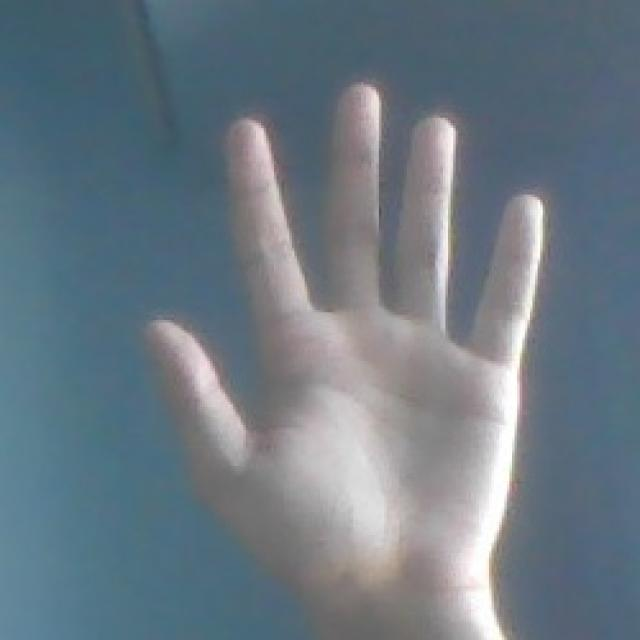Numeric-5: (140, 79, 546, 614)
